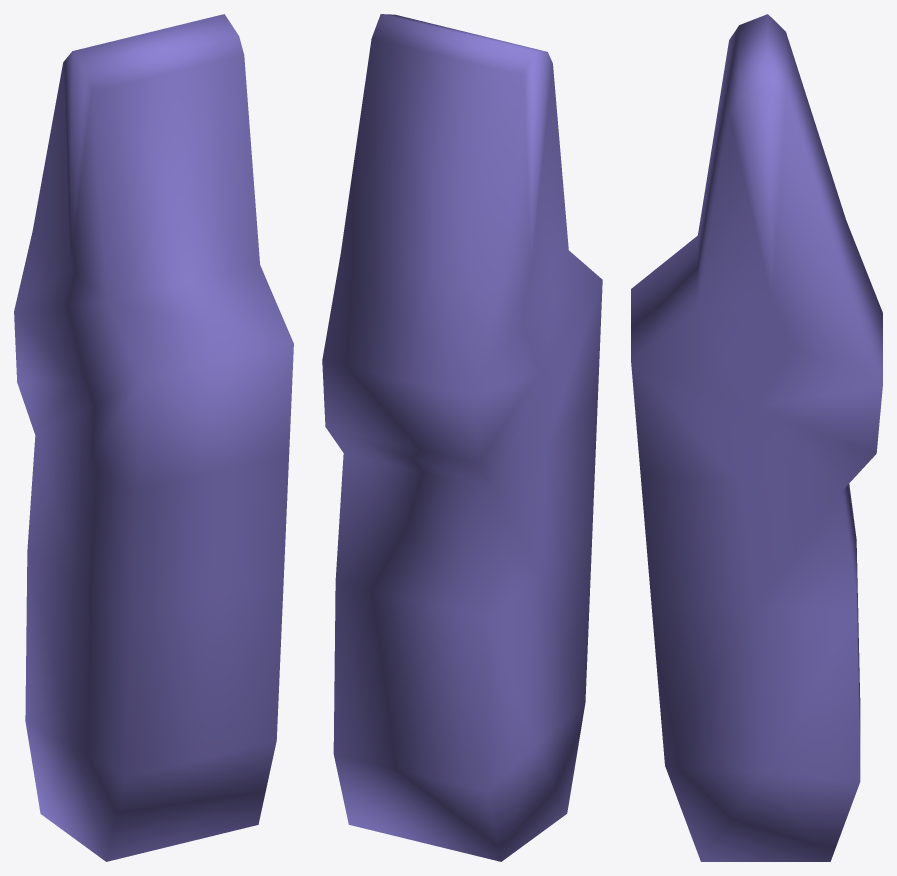
Rendered from Cactus_Tall_01_SPR_COL.fbx.
The picture shows the model from 3 angles, left to right: view 1: azimuth 30°, elevation 25°; view 2: azimuth 150°, elevation 25°; view 3: azimuth 270°, elevation 25°; orthographic projection.
Visible parts, largest first — view 1: Cactus_Tall_01_SPR_COL; view 2: Cactus_Tall_01_SPR_COL; view 3: Cactus_Tall_01_SPR_COL.
Part boxes in pixels (x1=…): Cactus_Tall_01_SPR_COL: x1=14, y1=14, x2=293, y2=861; Cactus_Tall_01_SPR_COL: x1=322, y1=14, x2=602, y2=861; Cactus_Tall_01_SPR_COL: x1=631, y1=14, x2=882, y2=861.
Size of the model in its own units: 66.62 by 329 by 96.81.
